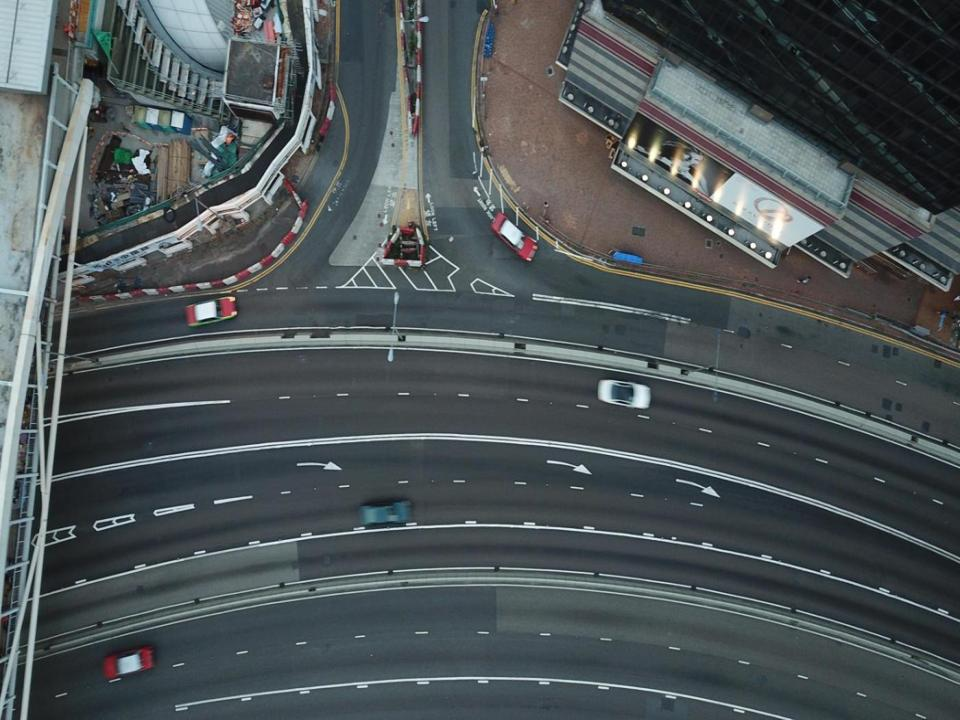car: (490, 210, 539, 262), (597, 375, 651, 410), (356, 497, 412, 530), (104, 647, 154, 677), (185, 298, 239, 324)
